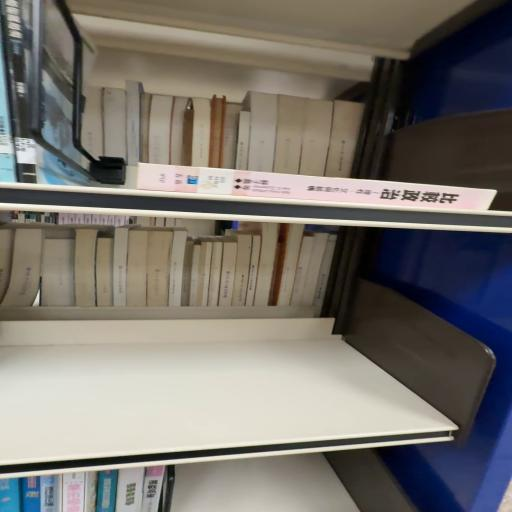flat: (137, 164, 497, 211)
